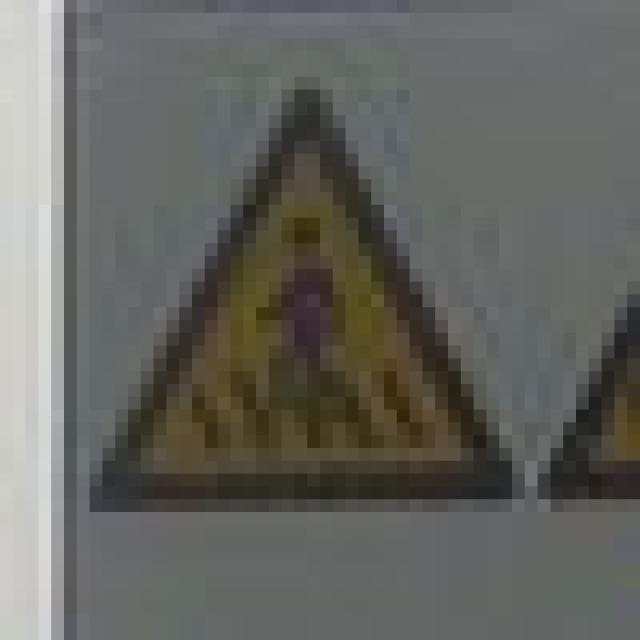pass_either_side: (77, 64, 512, 486)
